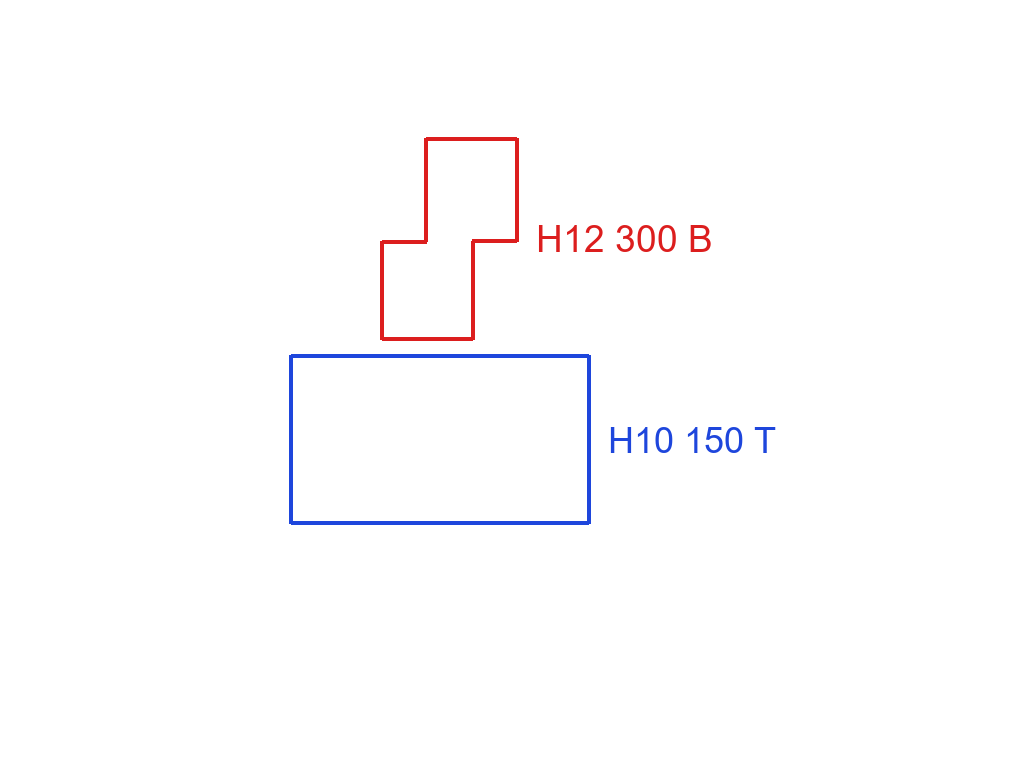shape: (287, 352, 592, 527), (378, 135, 520, 343)
text: (534, 223, 715, 254), (606, 425, 778, 455)
